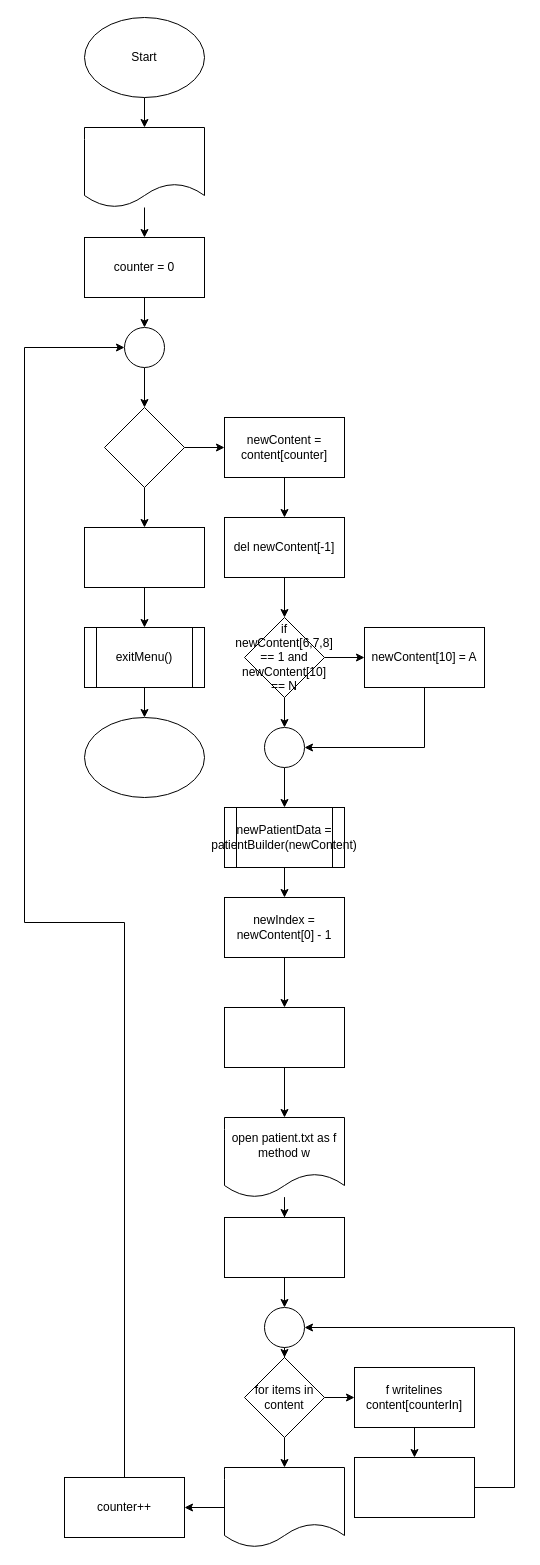
Some shapes in this 540 by 1565 pixel diagram are drawn without their labels. The shapes that lost their labels are listed below. From the top down, each one's centre as x and y in pixels, then its label:
pixel 144 167: open patient.txt as my_file method r
pixel 144 447: for element in content
pixel 144 557: PRINT success message
pixel 284 1037: content[newIndex] = newPatientData
pixel 284 1247: counterIn = 0
pixel 284 1507: f close()
pixel 414 1487: counterIn ++
